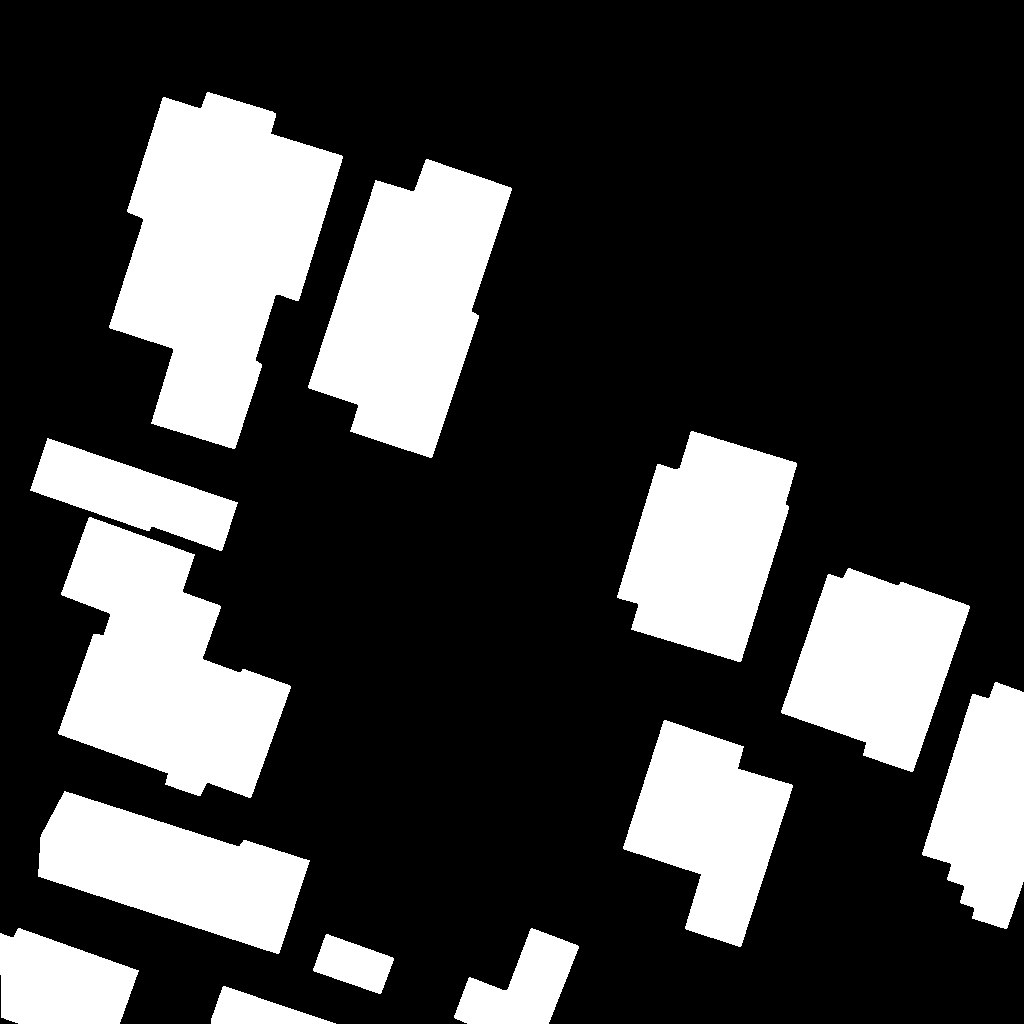building: (109, 92, 344, 450), (58, 517, 292, 799), (308, 159, 513, 459), (38, 790, 311, 955), (617, 431, 798, 663), (623, 720, 794, 948), (781, 568, 971, 773), (922, 682, 1024, 930), (30, 438, 239, 552), (0, 928, 140, 1024), (454, 928, 580, 1024), (313, 934, 395, 995), (211, 986, 337, 1024)
